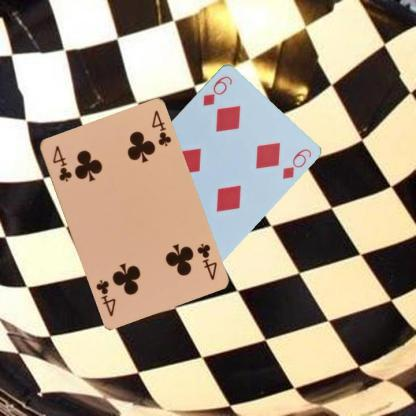4c: (194, 240, 218, 282), (50, 143, 72, 183)
6d: (200, 73, 233, 107)
